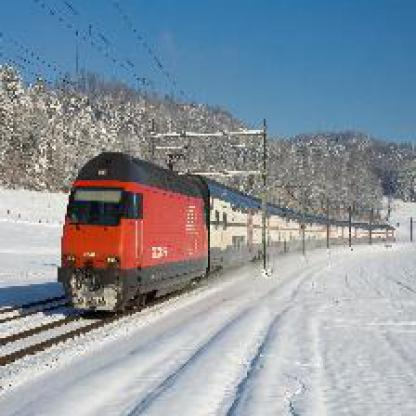not_emergency: (43, 143, 414, 293)
